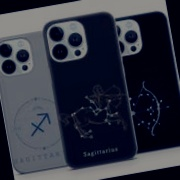iphone: (50, 15, 130, 168)
